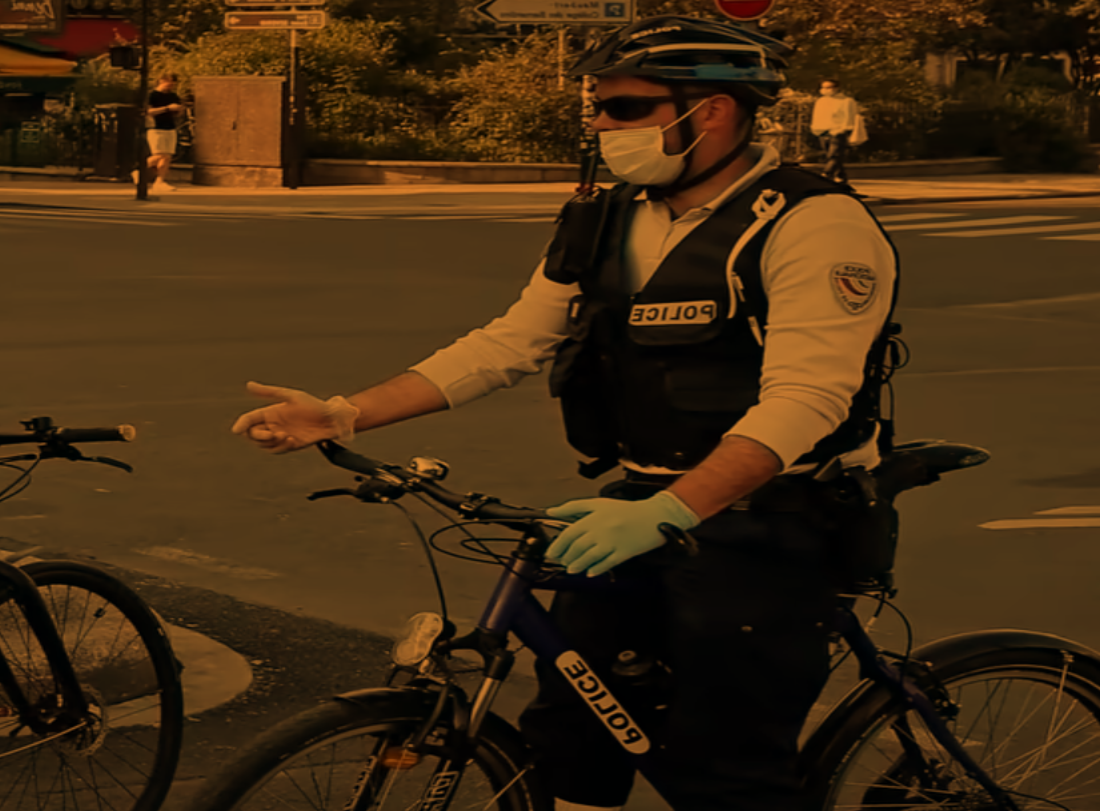mask_weared_incorrect: (581, 22, 773, 196)
